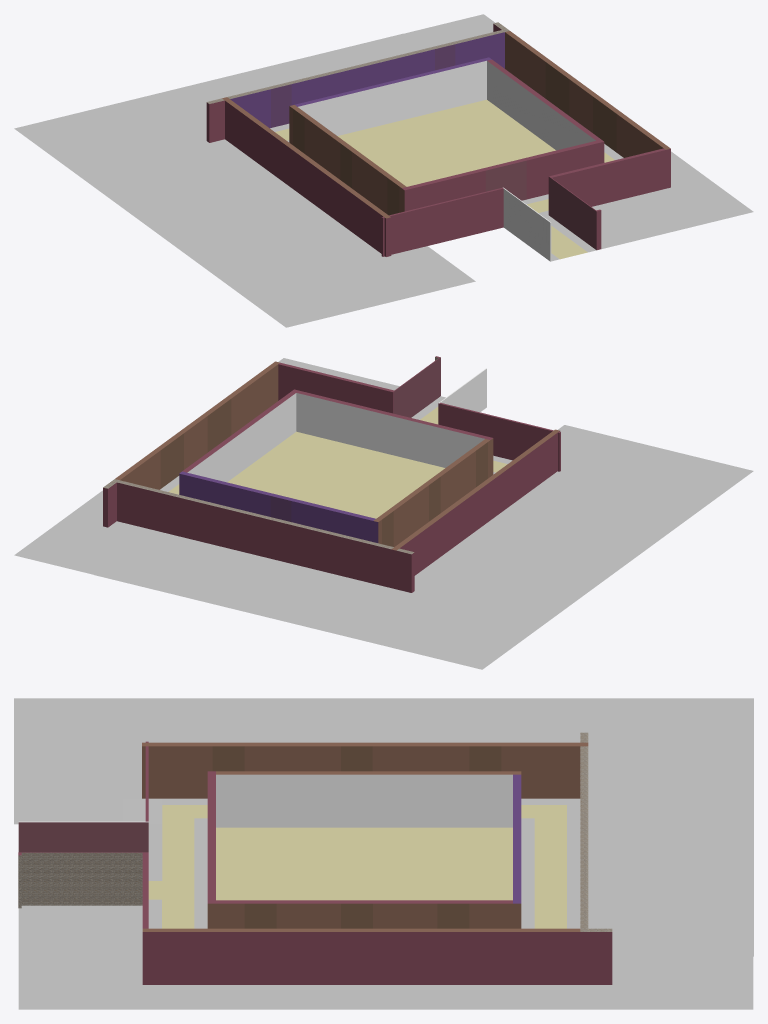
Rendered from jolly street.fbx.
The picture shows the model from 3 angles, top to bottom: view 1: azimuth 30°, elevation 25°; view 2: azimuth 150°, elevation 25°; view 3: azimuth 270°, elevation 25°; orthographic projection. The views are drawn at different scales.
Parts seen in each view (by area): view 1: Model; view 2: Model; view 3: Model.
Boxes of the visible parts, left/top/right/bottom form: Model: left=14, top=14, right=753, bottom=327; Model: left=14, top=356, right=753, bottom=669; Model: left=14, top=698, right=753, bottom=1009.
Bounding box in the file's own units: 11381 × 903 × 11428.
